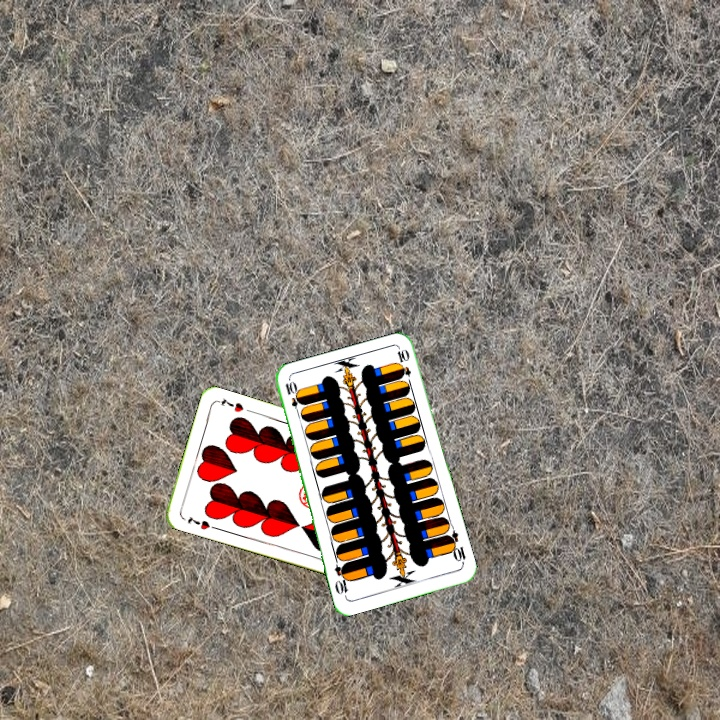E10: (443, 527, 468, 567), (281, 377, 303, 418)
H7: (183, 512, 212, 532)
